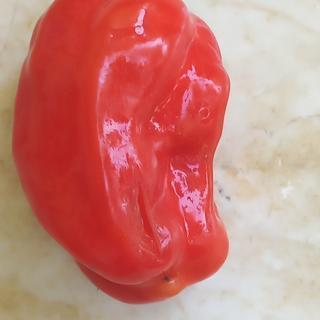Grade-A: (7, 0, 233, 308)
